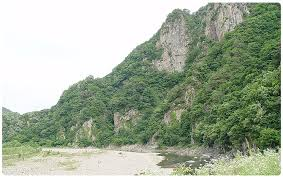mountain: (25, 11, 277, 176)
